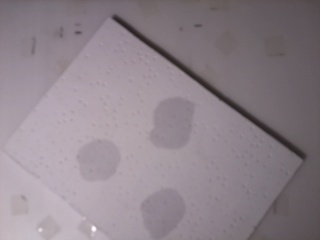Water_detected: (154, 101, 192, 150), (77, 146, 113, 179), (151, 196, 188, 228)
